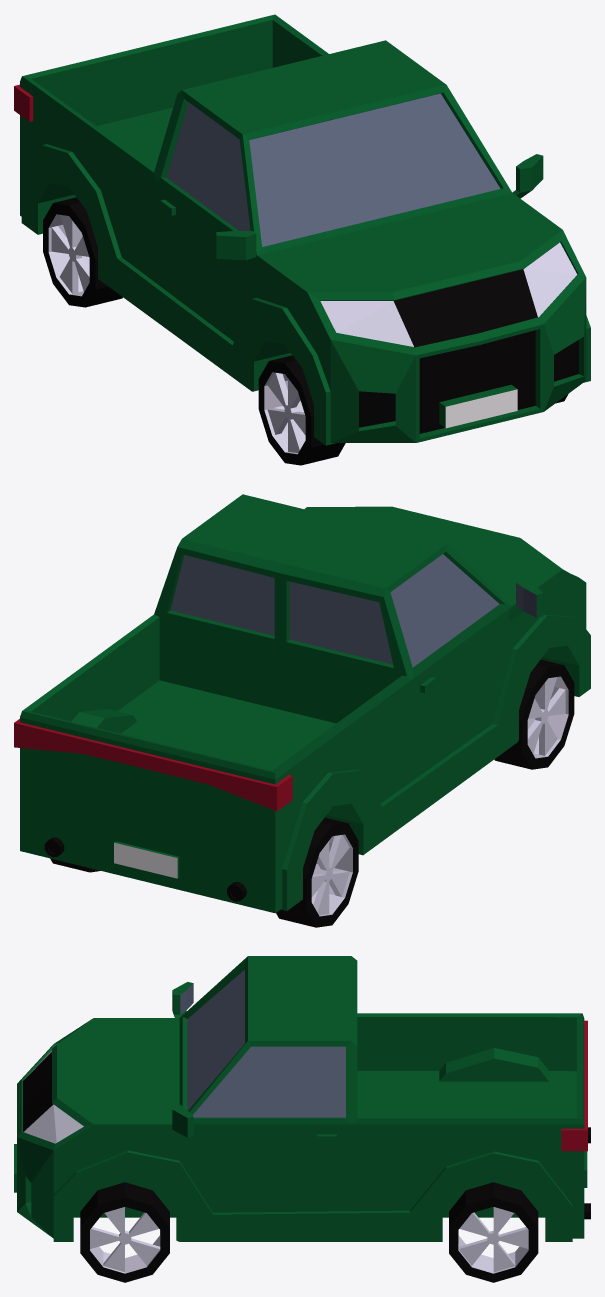
Rendered from pickup.glb.
3 views of the same model, one above another, from view 1: azimuth 30°, elevation 25°; view 2: azimuth 150°, elevation 25°; view 3: azimuth 270°, elevation 25° (orthographic). The views are drawn at different scales.
Parts seen in each view (by area): view 1: Pickup, Pickup wheel front right, Pickup wheel rear right; view 2: Pickup, Pickup wheel rear right, Pickup wheel front right; view 3: Pickup, Pickup wheel rear left, Pickup wheel front left.
Part boxes in pixels (box(x1,y1,x2,y2)): Pickup: box(14, 14, 590, 445); Pickup wheel front right: box(258, 355, 345, 465); Pickup wheel rear right: box(43, 197, 122, 307); Pickup: box(14, 494, 590, 913); Pickup wheel rear right: box(276, 817, 358, 927); Pickup wheel front right: box(494, 659, 574, 769); Pickup: box(14, 956, 590, 1241); Pickup wheel rear left: box(449, 1182, 538, 1282); Pickup wheel front left: box(80, 1182, 169, 1282).
Bounding box in the file's own units: 2.81 × 2.21 × 5.04.
